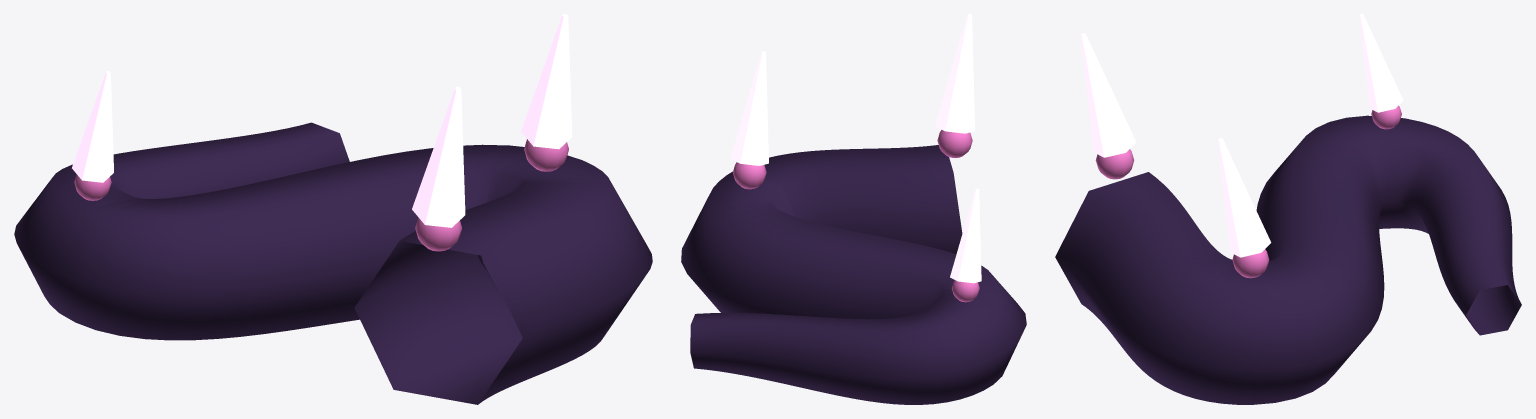
Rendered from SM_Keeper_Apep_Body_F29.fbx.
The picture shows the model from 3 angles, left to right: view 1: azimuth 30°, elevation 25°; view 2: azimuth 150°, elevation 25°; view 3: azimuth 270°, elevation 25°; orthographic projection. The views are drawn at different scales.
Parts seen in each view (by area): view 1: SM_Keeper_Apep_Body_F29; view 2: SM_Keeper_Apep_Body_F29; view 3: SM_Keeper_Apep_Body_F29.
Boxes of the visible parts, left/top/right/bottom form: SM_Keeper_Apep_Body_F29: left=14, top=14, right=652, bottom=404; SM_Keeper_Apep_Body_F29: left=681, top=14, right=1026, bottom=404; SM_Keeper_Apep_Body_F29: left=1055, top=14, right=1521, bottom=404.
Size of the model in its own units: 6.7 by 4.37 by 6.53.
